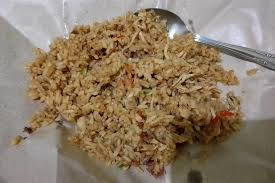Nasi goreng: (31, 15, 233, 171)
